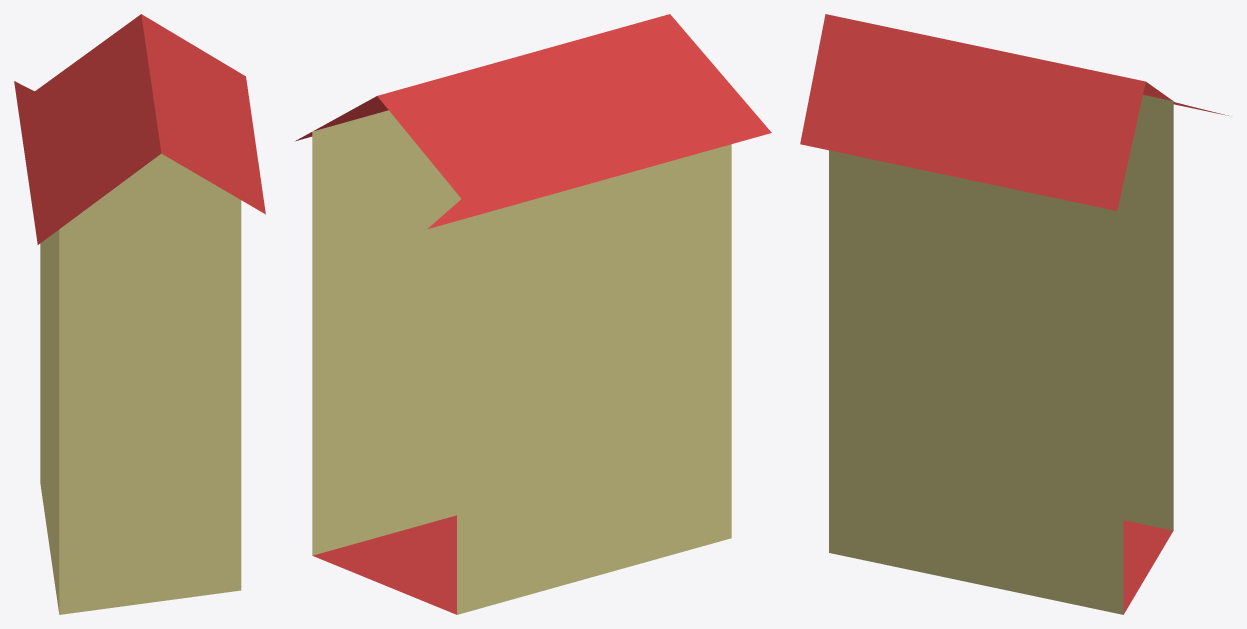
The picture shows the model from 3 angles, left to right: view 1: azimuth 30°, elevation 25°; view 2: azimuth 150°, elevation 25°; view 3: azimuth 270°, elevation 25°; orthographic projection. The views are drawn at different scales.
Bounding box in the file's own units: 8.12 × 8.54 × 10.8.
